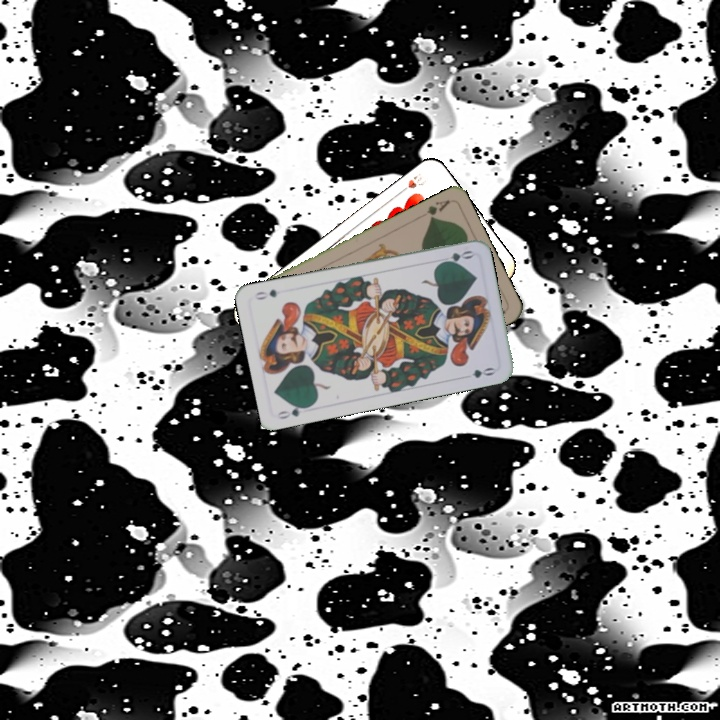GA: (423, 196, 453, 223)
GO: (435, 246, 475, 267), (274, 401, 313, 422)
H10: (395, 170, 429, 197)
